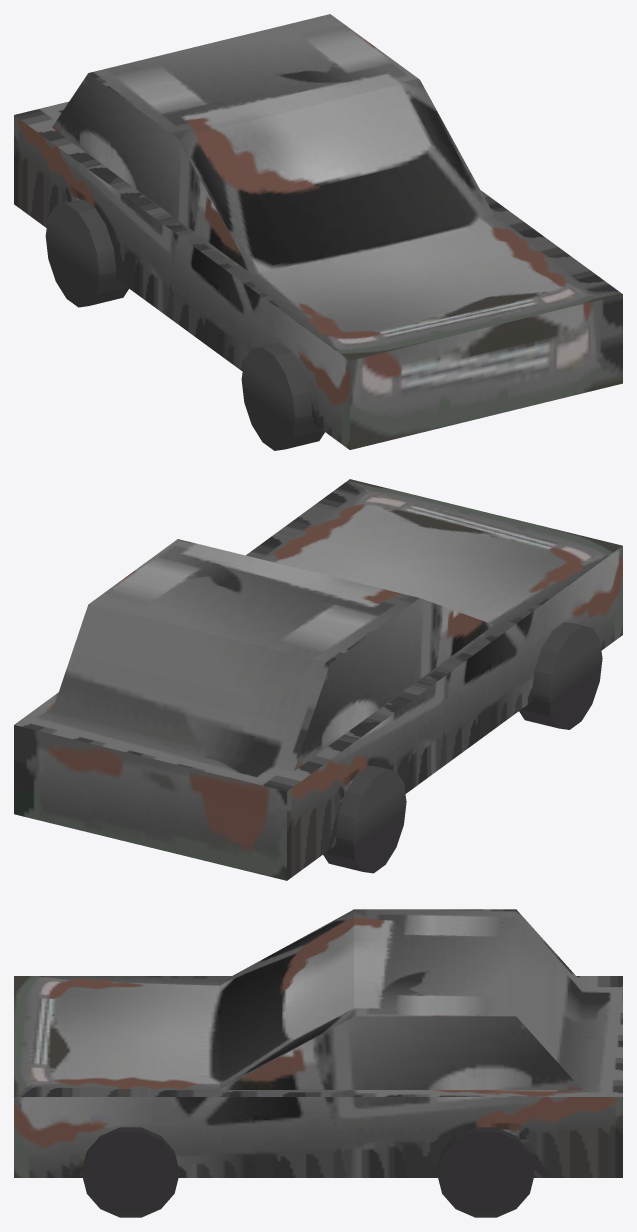
Rendered from Building_AncientRustedCar__E.glb.
3 renders of one model, top to bottom at view 1: azimuth 30°, elevation 25°; view 2: azimuth 150°, elevation 25°; view 3: azimuth 270°, elevation 25°, orthographic. The views are drawn at different scales.
Visible parts, largest first — view 1: AncientRustedCar; view 2: AncientRustedCar; view 3: AncientRustedCar.
Part boxes in pixels (left/top/right/bottom): AncientRustedCar: left=14, top=14, right=622, bottom=450; AncientRustedCar: left=14, top=479, right=622, bottom=880; AncientRustedCar: left=14, top=909, right=622, bottom=1217.
Size of the model in its own units: 1.93 by 1.29 by 3.75.
1 material, 1 textured.
